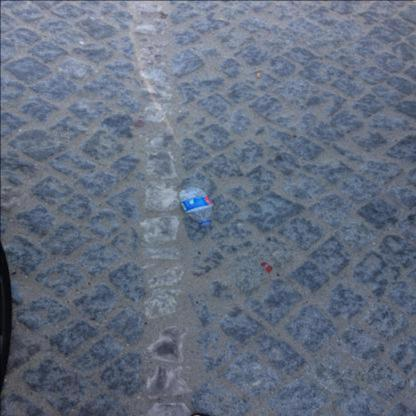Bottle cap: (177, 187, 213, 226)
Cigarette: (410, 379, 414, 387), (78, 41, 85, 45), (256, 72, 261, 77)
Other plastic: (180, 196, 214, 213)
